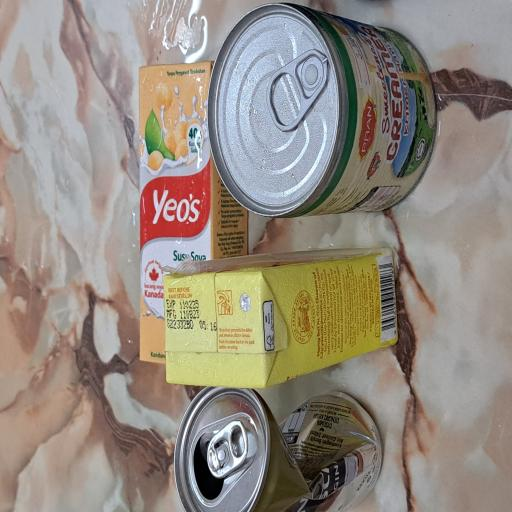can: (222, 273, 382, 512), (0, 231, 94, 510)
drink carton: (112, 182, 340, 330), (95, 219, 199, 512)
pop tab: (287, 355, 345, 439), (25, 274, 69, 329)
